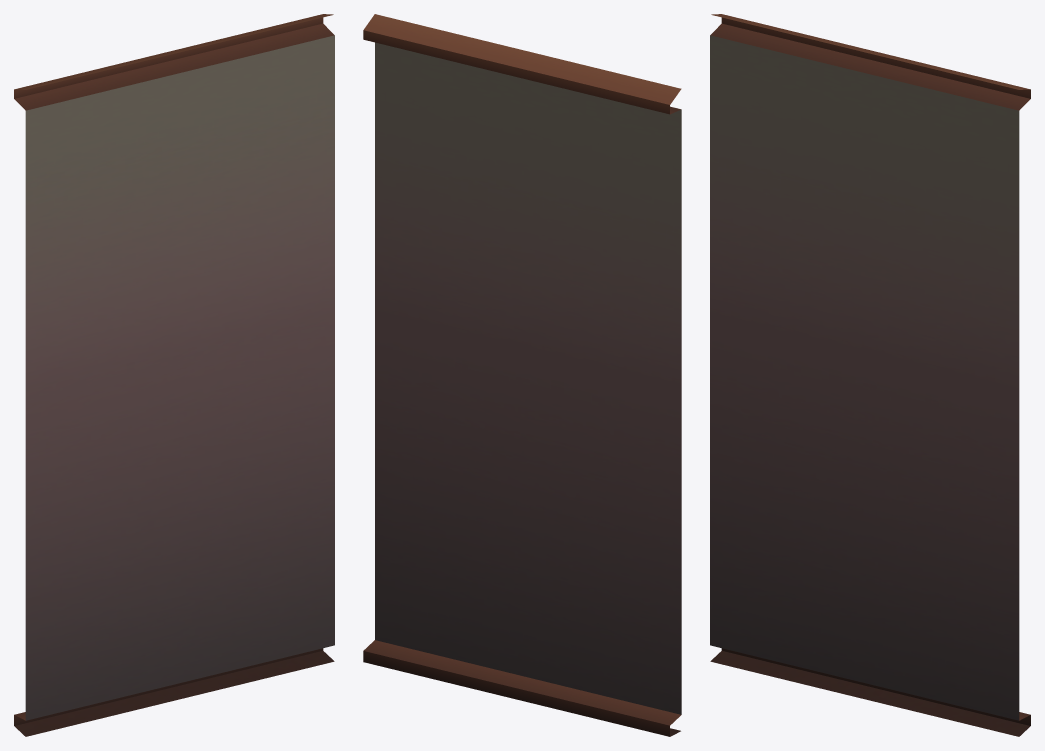
Rendered from SM_Env_InnerWall_02.fbx.
3 renders of one model, left to right at view 1: azimuth 30°, elevation 25°; view 2: azimuth 150°, elevation 25°; view 3: azimuth 330°, elevation 25°, orthographic.
Parts seen in each view (by area): view 1: SM_Env_InnerWall_02; view 2: SM_Env_InnerWall_02; view 3: SM_Env_InnerWall_02.
Part boxes in pixels (x1,y1,x2,y2): SM_Env_InnerWall_02: [14, 14, 334, 736]; SM_Env_InnerWall_02: [363, 14, 681, 736]; SM_Env_InnerWall_02: [710, 14, 1030, 736].
Size of the model in its own units: 1200 by 2400 by 77.85.
